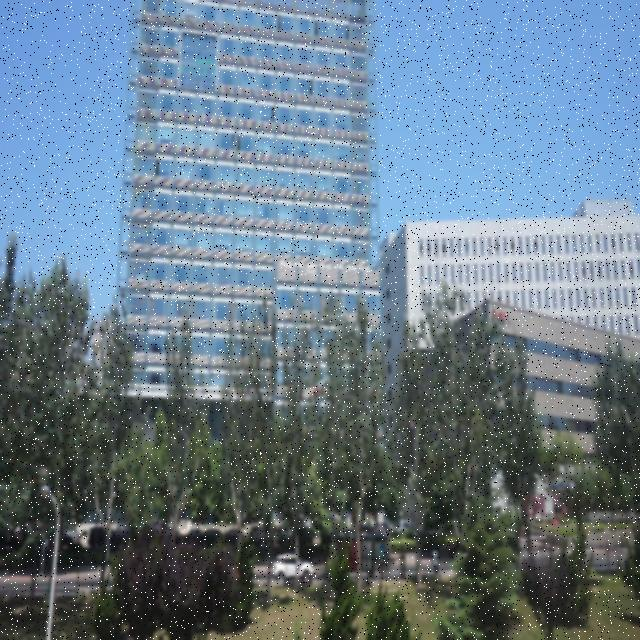UAV: (302, 379, 326, 399)
